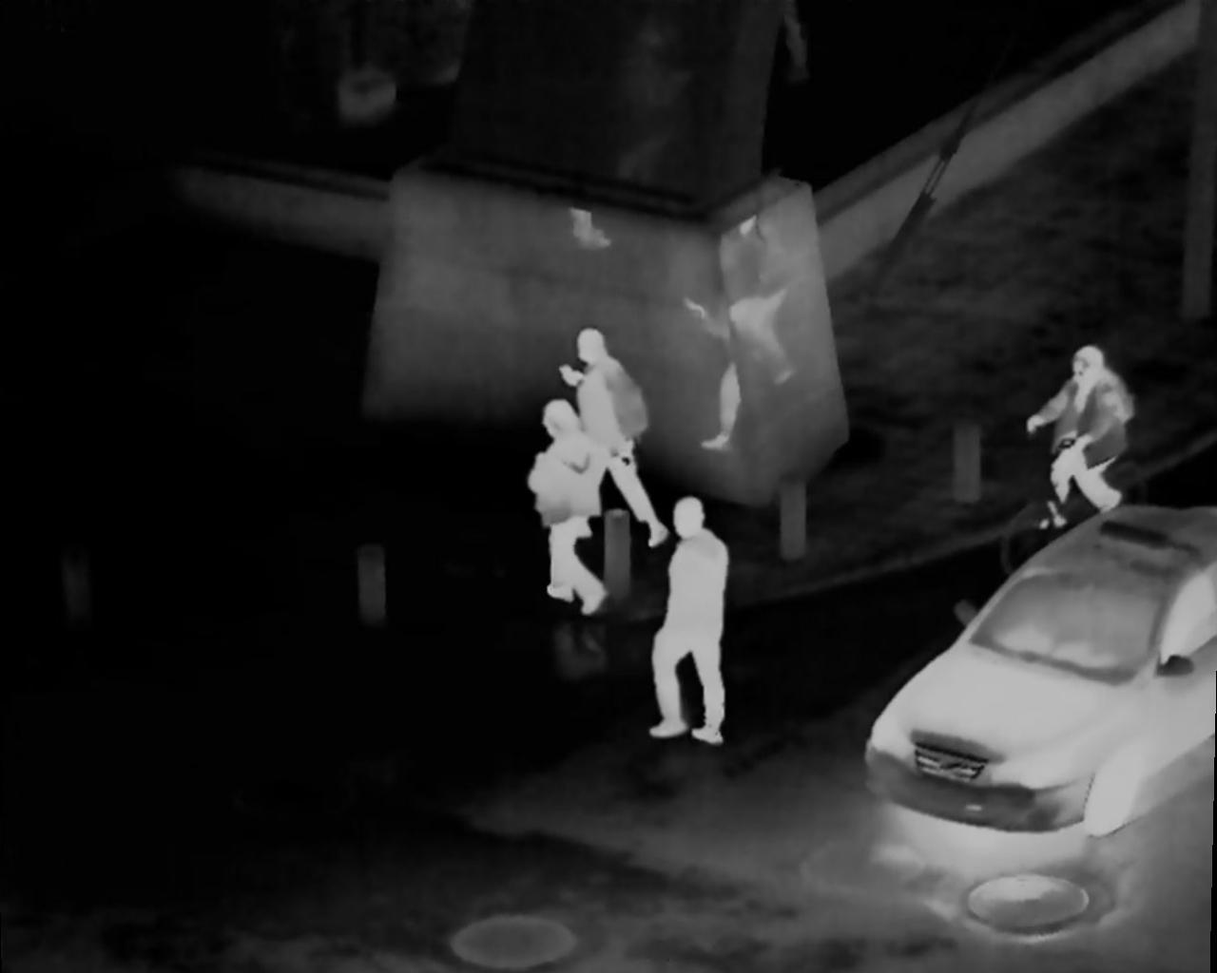person: (563, 326, 666, 547), (649, 497, 726, 749), (1037, 348, 1132, 530), (538, 403, 615, 618)
